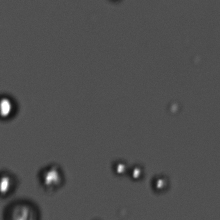Living Cell: (35, 163, 68, 193), (1, 92, 22, 124), (1, 164, 17, 197), (109, 155, 130, 180), (149, 174, 171, 195), (131, 160, 145, 182)
